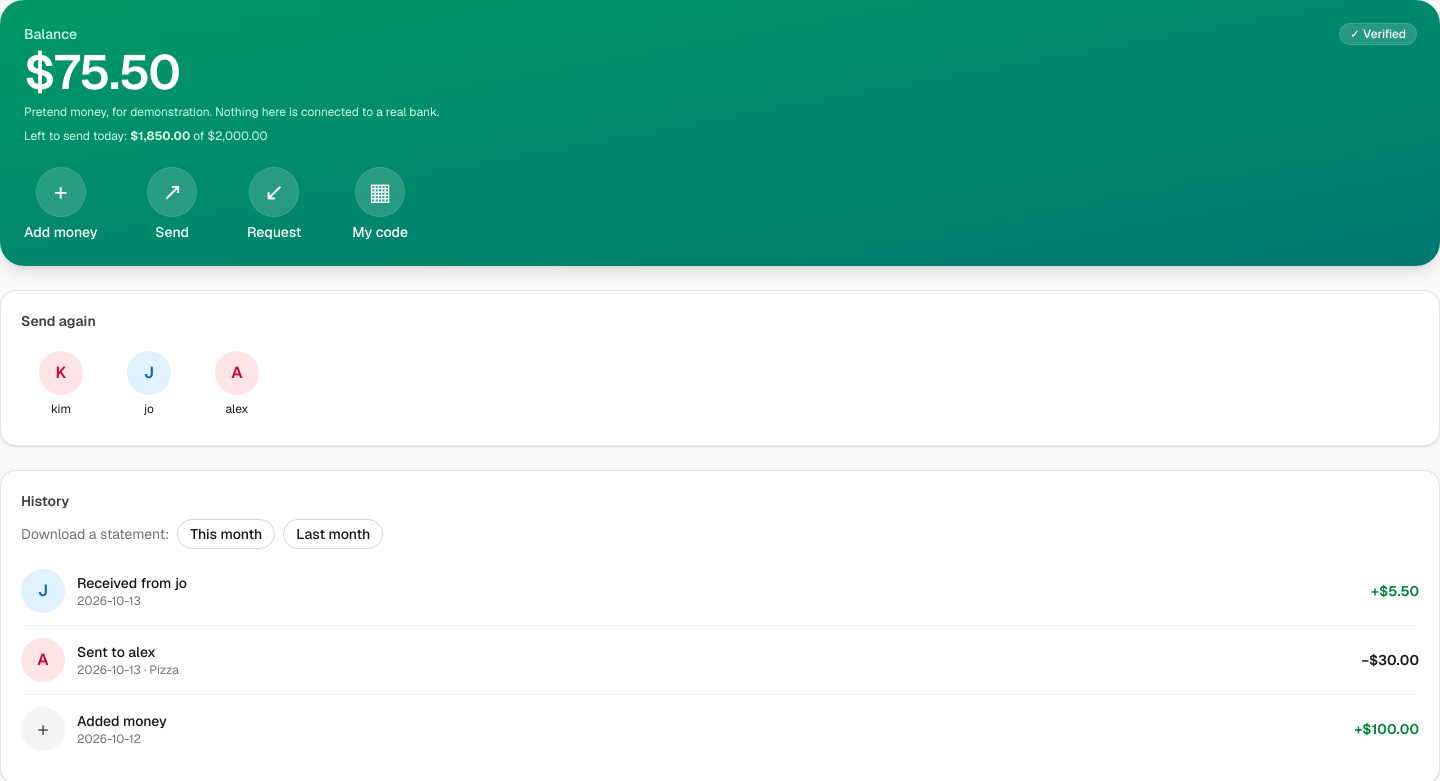
Test case: asking for money takes a person, an amount and one tap
Click the button "↙ Request". click: (274, 205)
box: [247, 168, 302, 242]
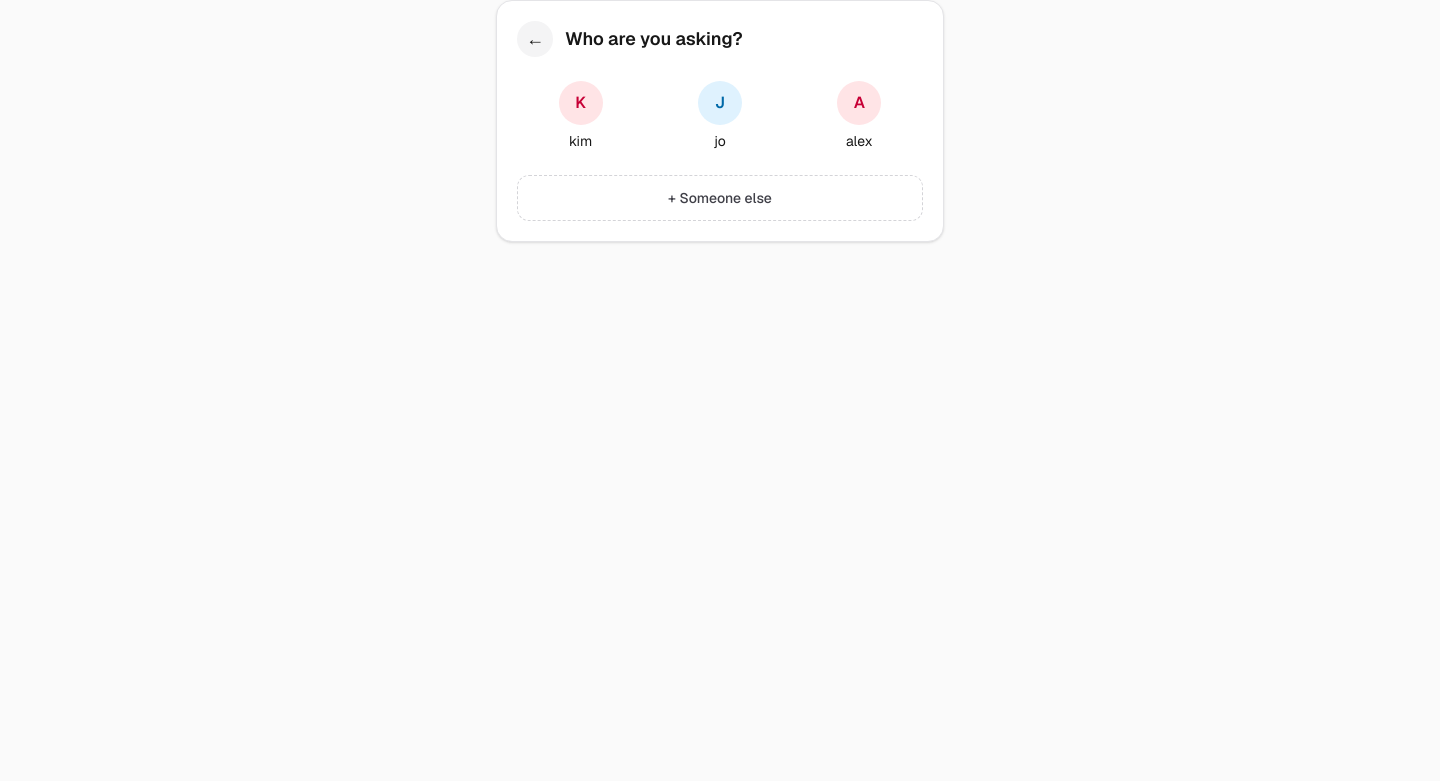
Click the button with aria-label "Request from alex@example.com". click: (859, 116)
box: [796, 73, 923, 159]
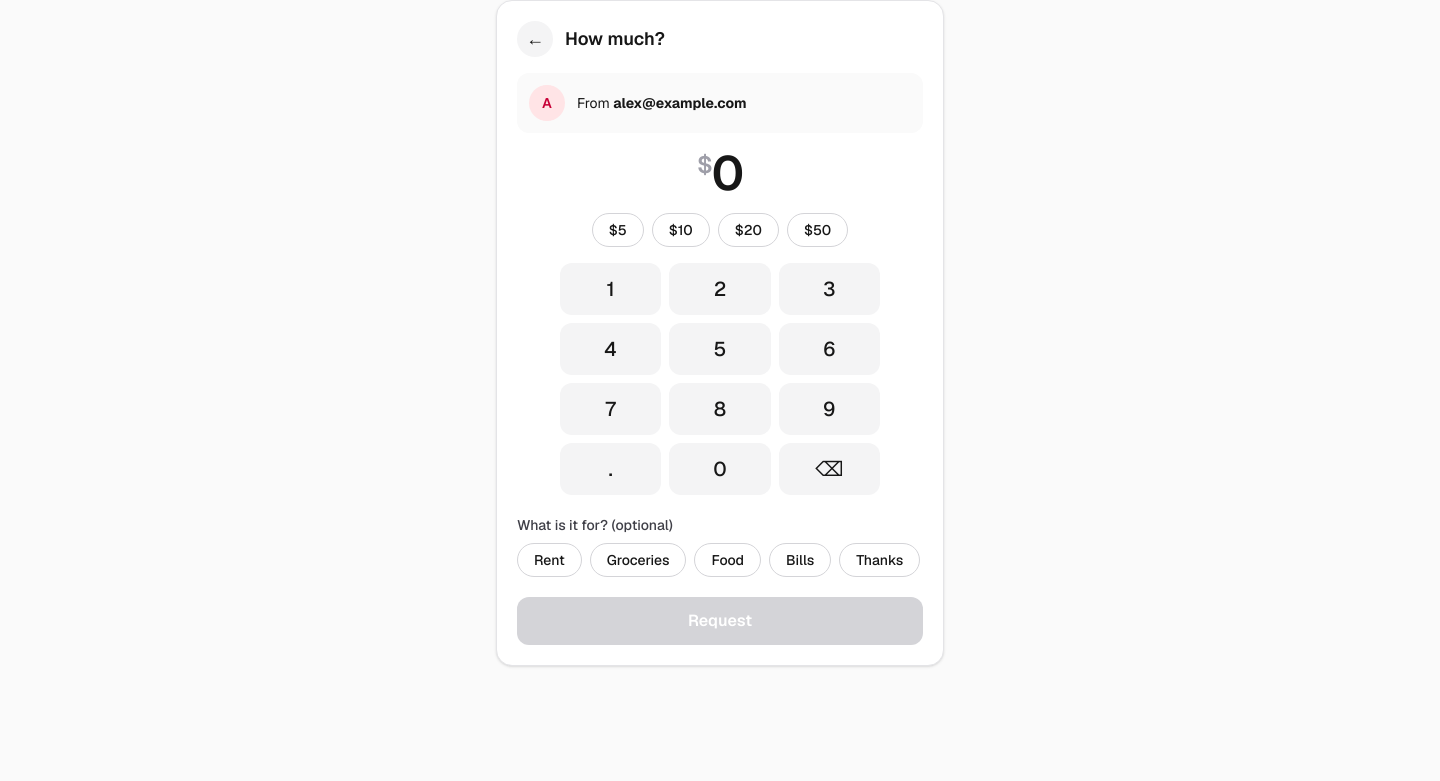
Click the button "$20". click: (748, 230)
box: [718, 213, 779, 247]
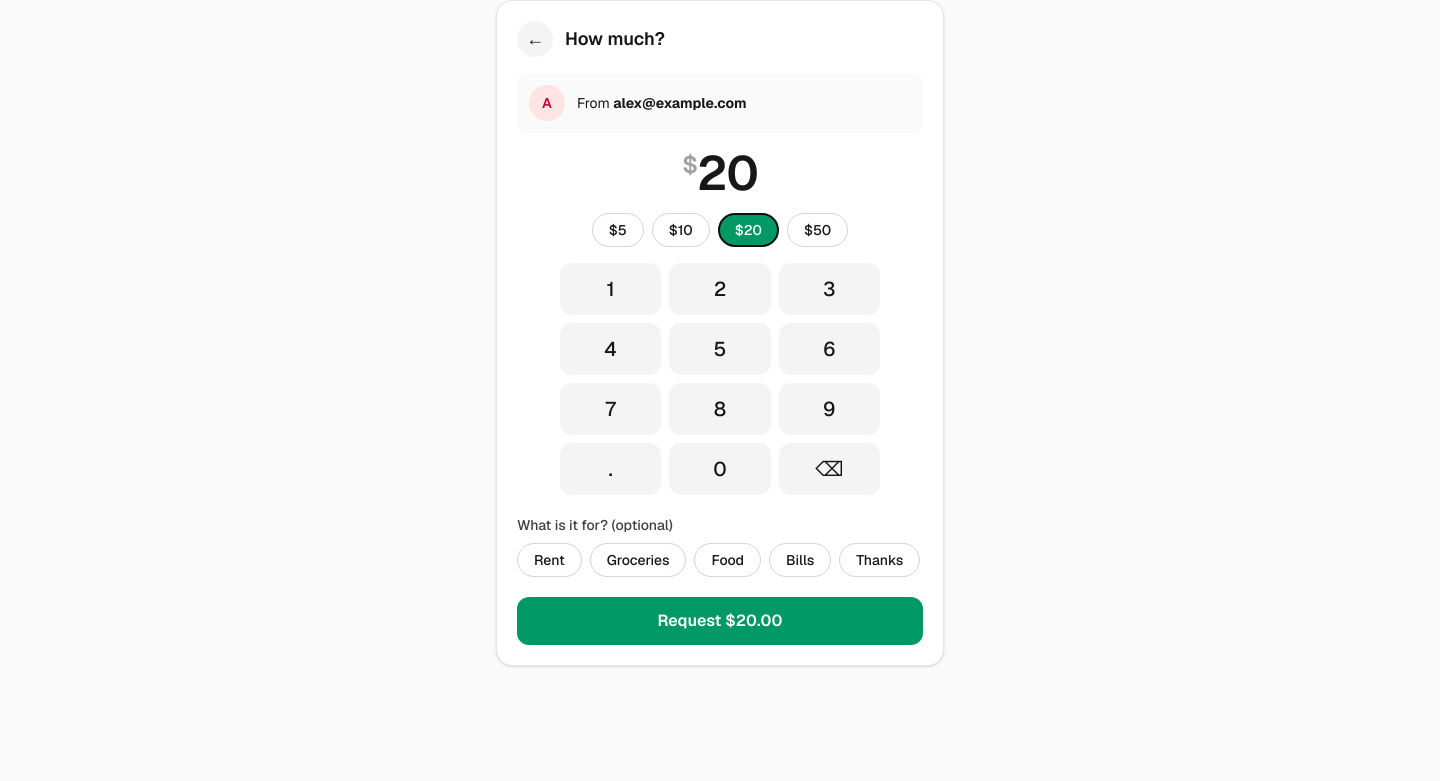
Click the button "Food". click: (728, 560)
box: [694, 543, 761, 577]
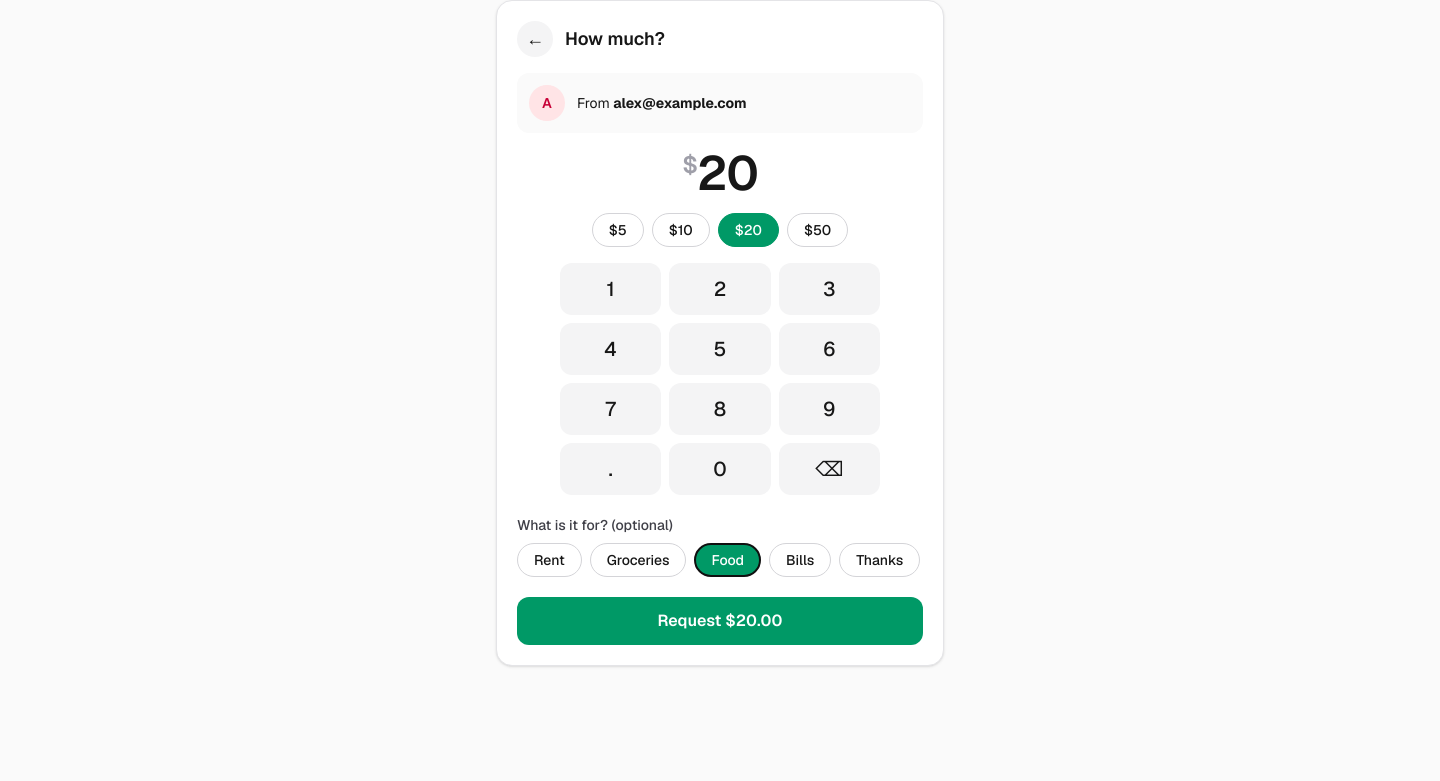
Click the button "Request $20.00". click: (720, 621)
box: [517, 597, 923, 645]
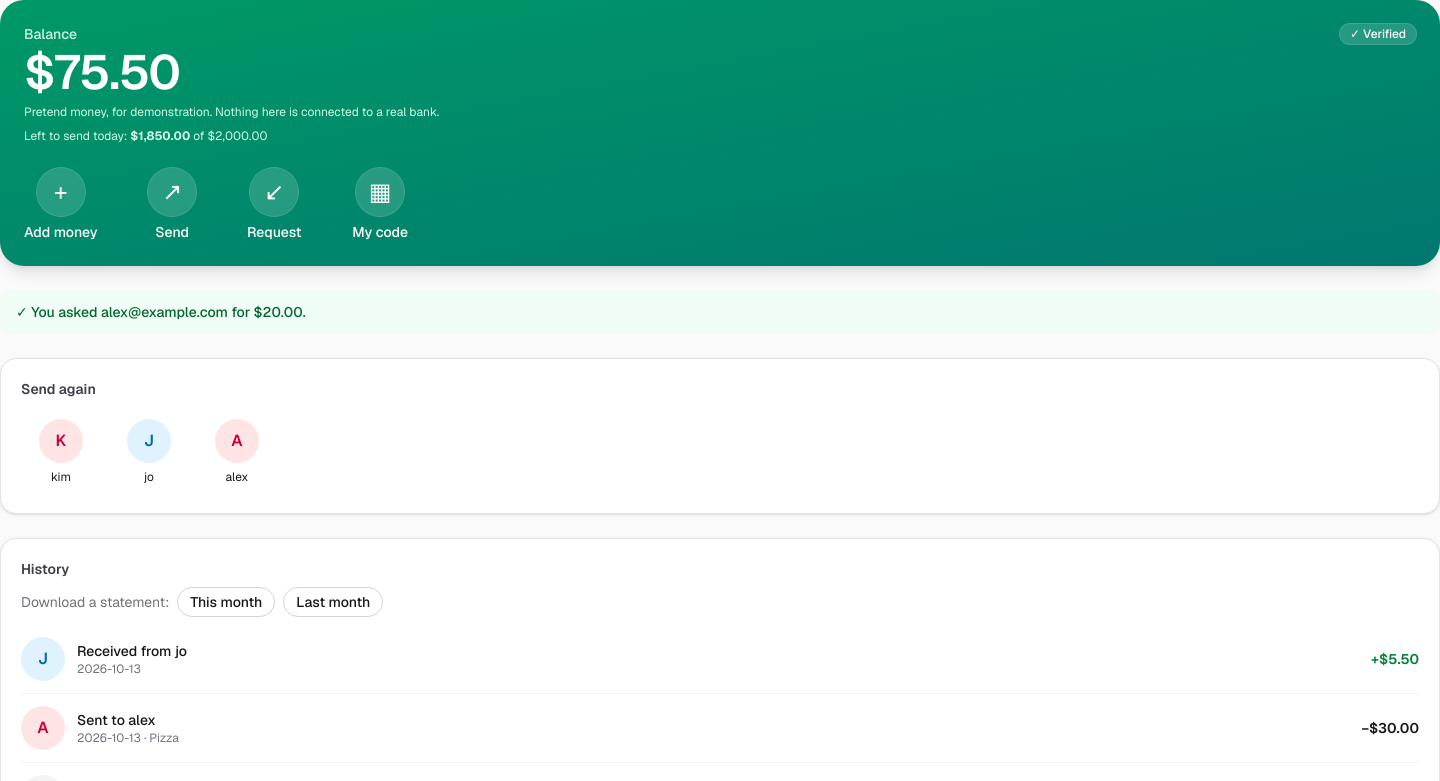
Check: the message shows "You asked alex@example.com for $20.00.", box [31, 303, 306, 321]
